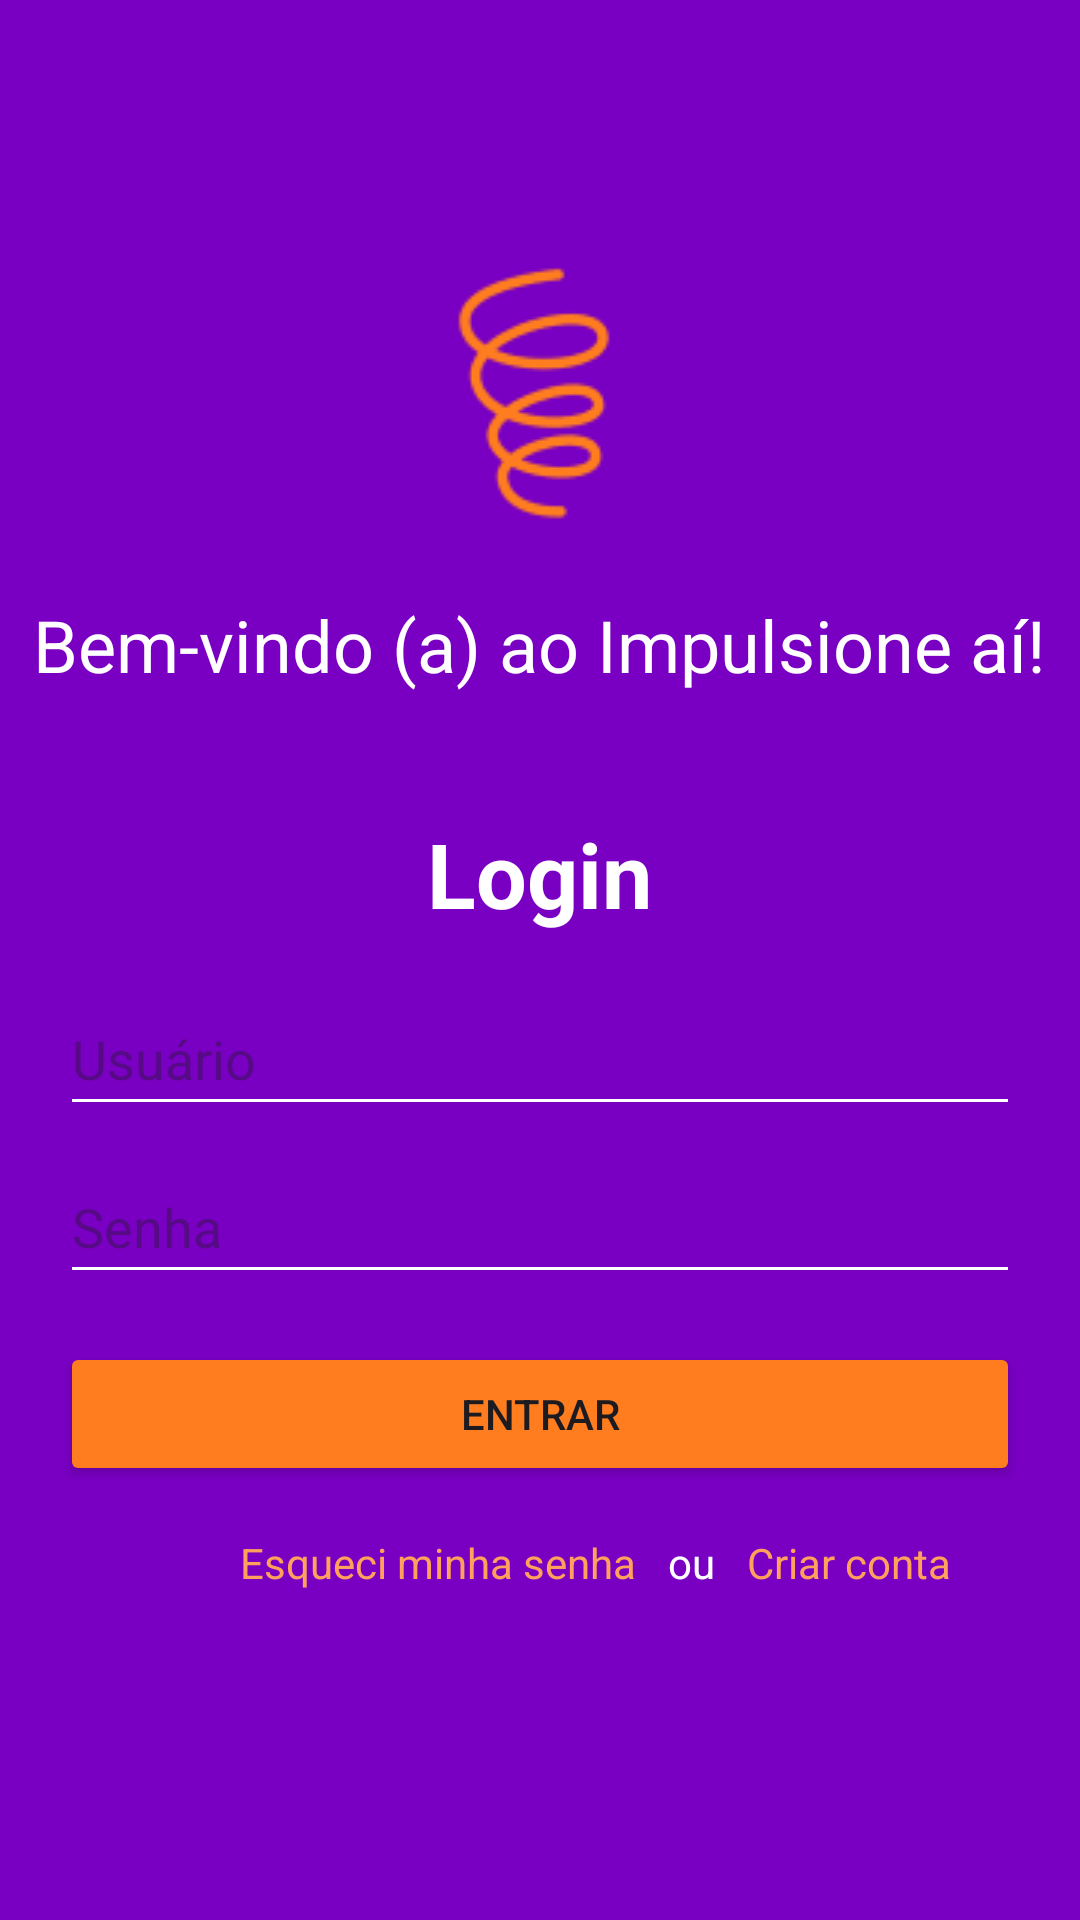

Point at icon controls on the screen. Image size 1080×1920, points as [x,y].
impulsioneai: [534,393]
